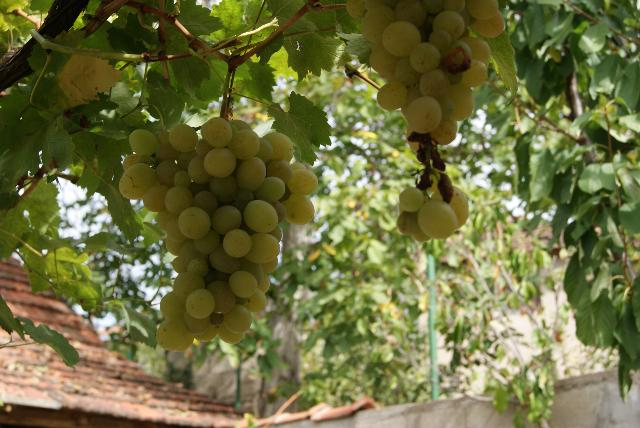grapes: (119, 118, 318, 350), (346, 0, 505, 241)
